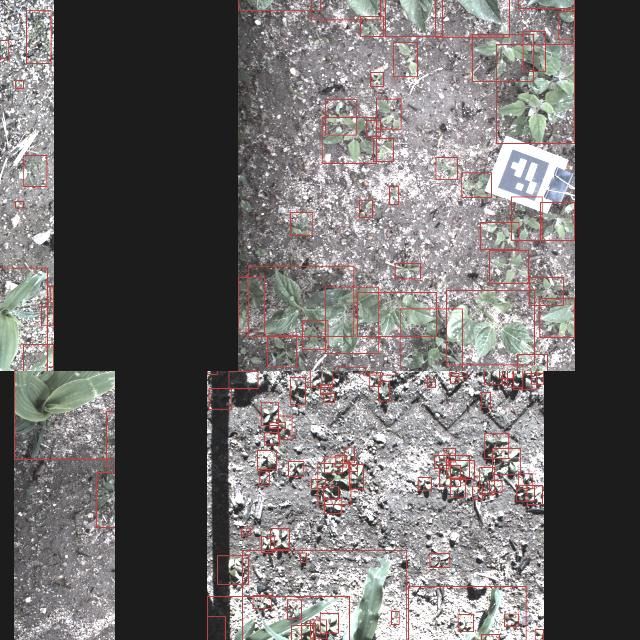crop: (241, 550, 406, 640), (13, 371, 115, 459), (248, 266, 354, 336), (446, 290, 534, 364), (408, 586, 526, 640), (206, 596, 349, 640), (0, 268, 48, 371), (325, 287, 379, 353), (358, 292, 437, 336), (435, 0, 509, 37), (385, 0, 442, 36), (238, 278, 264, 332), (311, 0, 380, 20), (540, 298, 574, 338), (24, 343, 54, 371)
weed: (496, 44, 574, 144), (399, 309, 462, 371), (472, 34, 534, 82), (322, 117, 376, 163), (26, 11, 52, 64), (489, 250, 528, 284), (512, 197, 542, 241), (540, 202, 574, 240), (318, 464, 350, 504), (480, 222, 520, 250), (96, 472, 115, 527), (326, 100, 356, 134), (530, 277, 564, 305), (267, 336, 297, 366), (216, 556, 248, 584), (523, 31, 545, 71), (393, 42, 417, 78), (376, 99, 402, 129), (461, 172, 491, 198), (302, 320, 328, 350), (24, 156, 48, 187), (492, 449, 520, 475), (485, 434, 509, 458), (518, 354, 548, 371), (290, 212, 312, 235), (446, 455, 469, 477), (436, 157, 458, 179), (559, 10, 575, 40), (373, 138, 393, 162), (228, 372, 258, 388), (450, 460, 474, 480), (208, 388, 230, 409), (361, 16, 384, 36), (270, 528, 290, 550), (260, 402, 278, 426), (207, 616, 225, 640), (513, 371, 536, 389), (440, 466, 460, 486), (256, 450, 276, 470), (348, 465, 364, 489), (309, 371, 332, 387), (395, 264, 421, 278), (290, 378, 304, 404), (480, 468, 494, 494), (320, 613, 338, 633), (278, 416, 292, 440), (291, 625, 313, 640), (450, 478, 466, 498), (323, 457, 342, 473), (516, 485, 534, 501), (324, 498, 342, 514), (458, 614, 474, 632), (310, 620, 326, 638), (287, 600, 301, 620), (430, 553, 450, 567), (507, 371, 522, 388), (358, 200, 372, 218), (528, 486, 542, 504), (253, 595, 271, 609), (41, 306, 53, 326), (301, 623, 315, 640), (485, 371, 503, 384), (366, 120, 380, 136), (434, 455, 450, 469), (288, 462, 304, 476), (261, 536, 275, 552), (378, 381, 389, 401), (519, 474, 533, 488), (264, 432, 280, 444), (504, 614, 520, 626), (371, 73, 384, 87), (324, 486, 338, 499), (389, 187, 399, 205), (369, 372, 381, 386), (444, 448, 456, 462), (418, 478, 432, 490), (0, 40, 9, 58), (481, 392, 491, 408), (310, 479, 326, 489), (259, 470, 269, 486), (532, 371, 544, 384), (490, 480, 502, 492), (344, 448, 354, 462), (473, 486, 483, 498), (348, 460, 358, 472), (335, 456, 347, 466), (450, 371, 468, 377), (482, 634, 500, 640), (450, 373, 460, 383), (320, 384, 330, 394), (534, 629, 543, 640), (499, 371, 513, 378), (269, 423, 285, 429), (391, 612, 399, 624), (324, 393, 334, 402), (15, 80, 23, 88), (50, 286, 54, 302), (427, 379, 435, 387), (242, 528, 250, 536), (300, 553, 306, 563), (15, 202, 23, 208), (207, 371, 217, 375), (524, 371, 543, 373)
